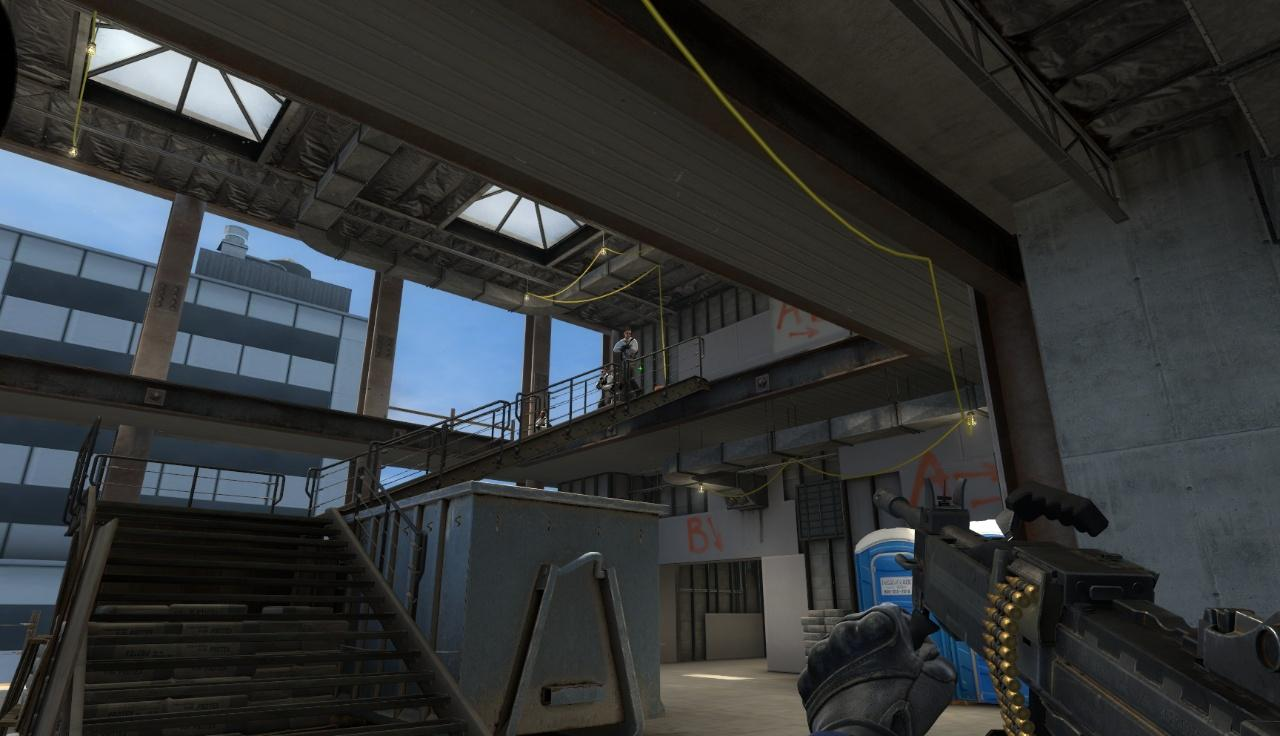rifle: (848, 463, 1280, 736)
tt: (619, 328, 637, 386), (598, 368, 613, 402), (537, 412, 548, 429)
tthead: (624, 329, 632, 340)
